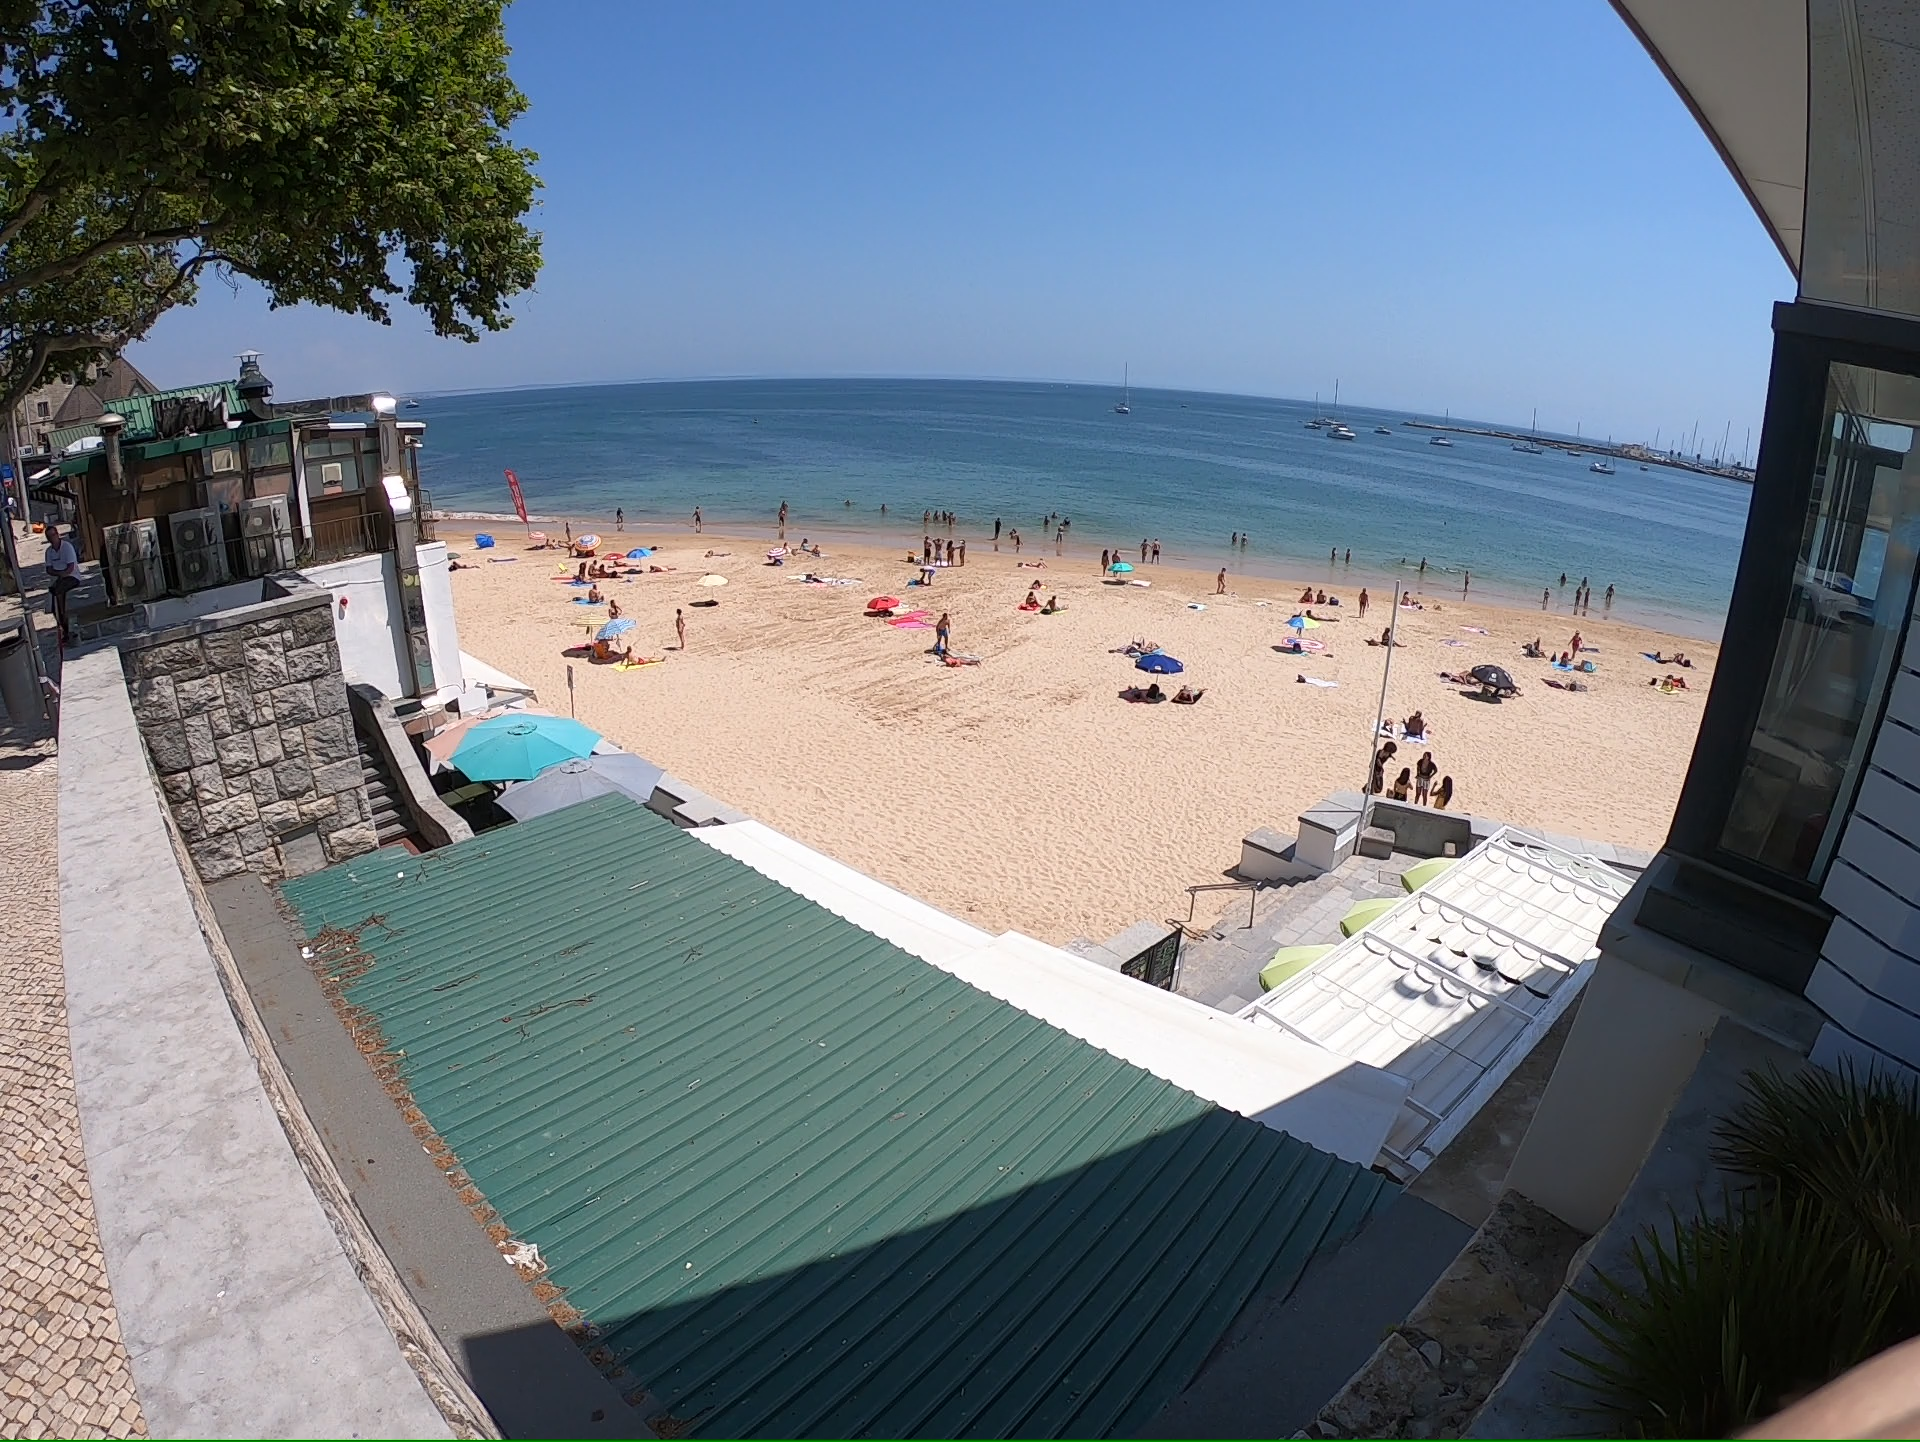person: (1416, 747, 1435, 808), (620, 644, 666, 667), (1404, 707, 1429, 738), (1440, 773, 1461, 808), (935, 612, 951, 655), (672, 606, 687, 650), (1375, 737, 1398, 767), (1015, 556, 1049, 571), (1043, 594, 1070, 612), (1124, 632, 1144, 654), (1176, 684, 1203, 701), (1671, 649, 1692, 669), (1570, 629, 1583, 659), (606, 599, 622, 620), (1358, 584, 1369, 616), (931, 535, 942, 567), (1215, 566, 1227, 594), (588, 583, 604, 603), (1023, 590, 1038, 612), (691, 504, 703, 530), (1381, 624, 1395, 647), (1099, 547, 1110, 576), (1298, 585, 1314, 603), (917, 567, 935, 583), (1662, 674, 1678, 692), (958, 536, 967, 567), (1152, 535, 1162, 565), (922, 534, 931, 564), (946, 538, 956, 567), (777, 501, 787, 526), (574, 561, 586, 581), (993, 515, 1003, 542), (1637, 650, 1662, 659), (1604, 581, 1616, 600), (588, 558, 600, 576), (1141, 535, 1150, 563), (1533, 636, 1541, 657), (563, 520, 573, 541), (782, 540, 795, 555), (1463, 567, 1470, 591), (1111, 548, 1123, 563), (1055, 521, 1065, 541), (947, 509, 955, 529), (1316, 588, 1326, 604), (615, 505, 624, 522), (1575, 586, 1583, 607), (921, 506, 930, 523), (1559, 651, 1568, 668), (799, 536, 809, 551), (1584, 586, 1590, 607), (1542, 587, 1550, 602), (1400, 591, 1409, 605), (1041, 515, 1051, 526), (1345, 546, 1351, 564), (811, 543, 819, 556), (932, 507, 939, 523), (1420, 555, 1427, 569), (1241, 530, 1247, 546), (1231, 530, 1236, 545), (1560, 572, 1566, 583), (1015, 534, 1020, 545), (880, 503, 886, 512), (1331, 546, 1335, 558), (941, 509, 945, 519), (1581, 575, 1586, 585)
